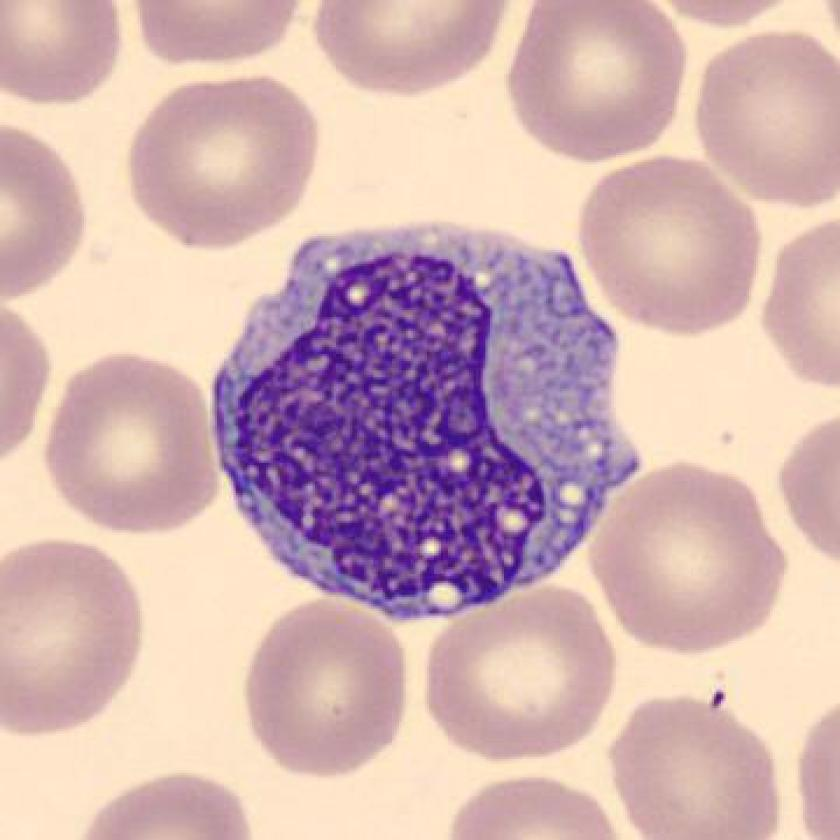monocyte: (185, 207, 659, 637)
